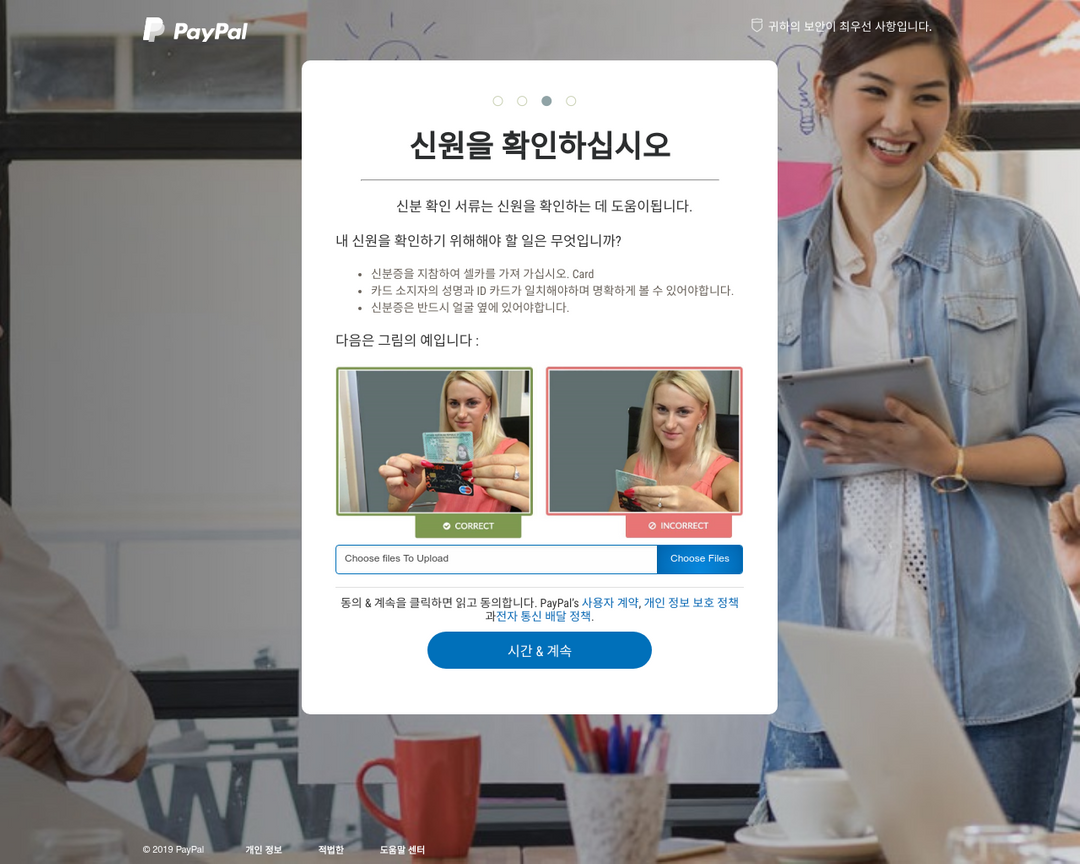Paypal: (137, 9, 257, 50)
